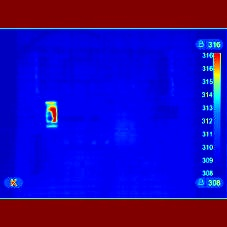Less: (45, 114, 62, 130)
